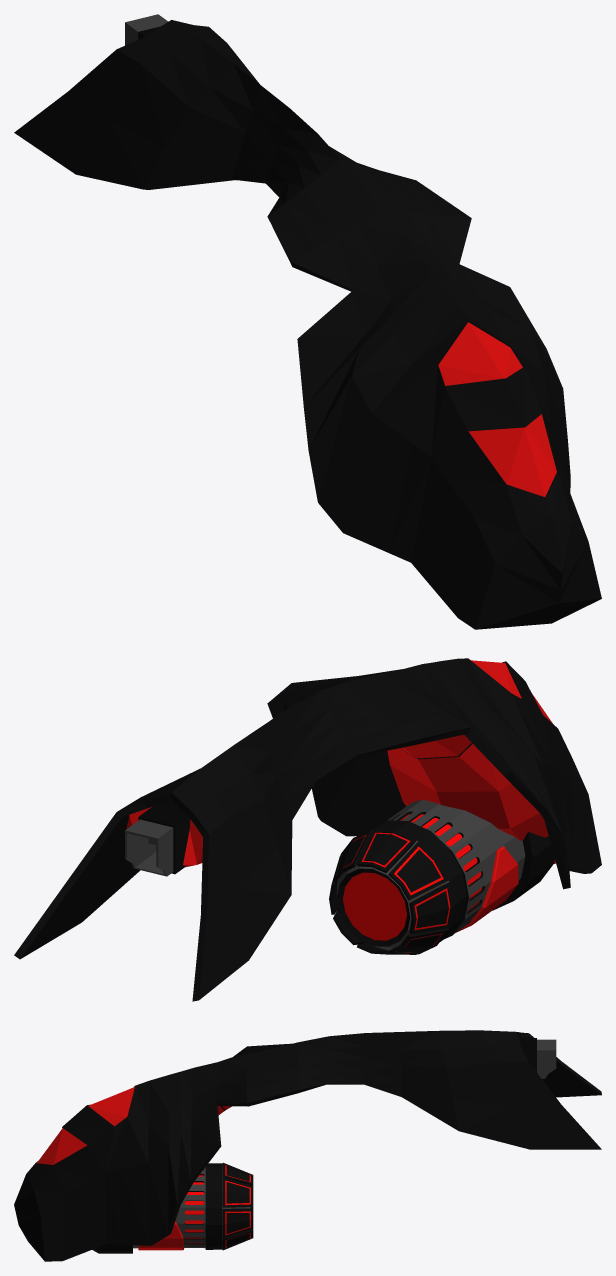
The model's file is SNSS_SwarmDrone.fbx.
3 views of the same model, one above another, from view 1: azimuth 30°, elevation 25°; view 2: azimuth 150°, elevation 25°; view 3: azimuth 270°, elevation 25° (orthographic). The views are drawn at different scales.
Visible parts, largest first — view 1: SwarmDrone; view 2: SwarmDrone; view 3: SwarmDrone.
Boxes of the visible parts, x1,y1,x2,y2 form: SwarmDrone: (14,14,601,629); SwarmDrone: (14,658,601,1001); SwarmDrone: (14,1030,601,1261).
Size of the model in its own units: 94.46 by 120 by 293.
